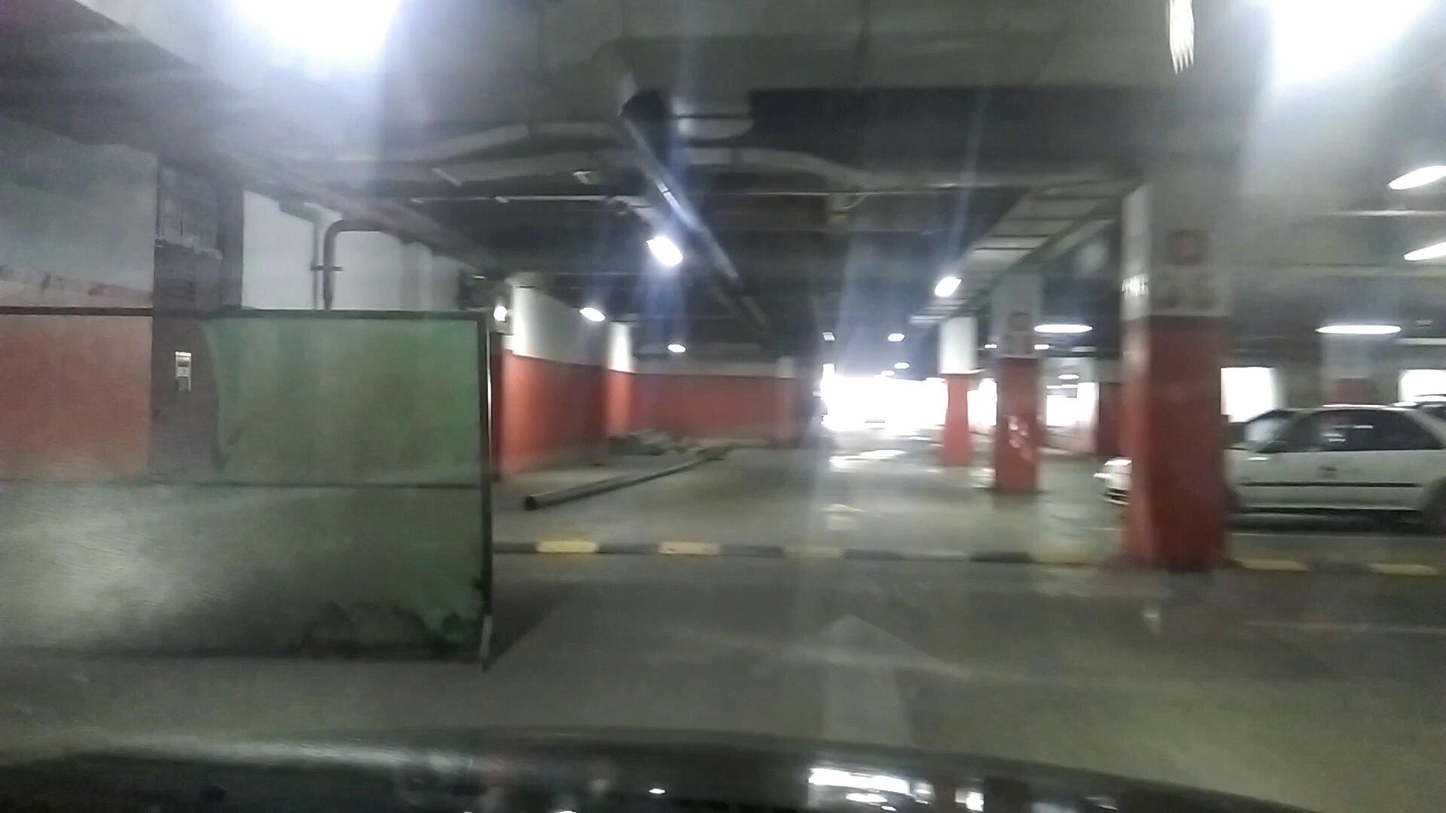Bump: (493, 536, 1114, 567)
